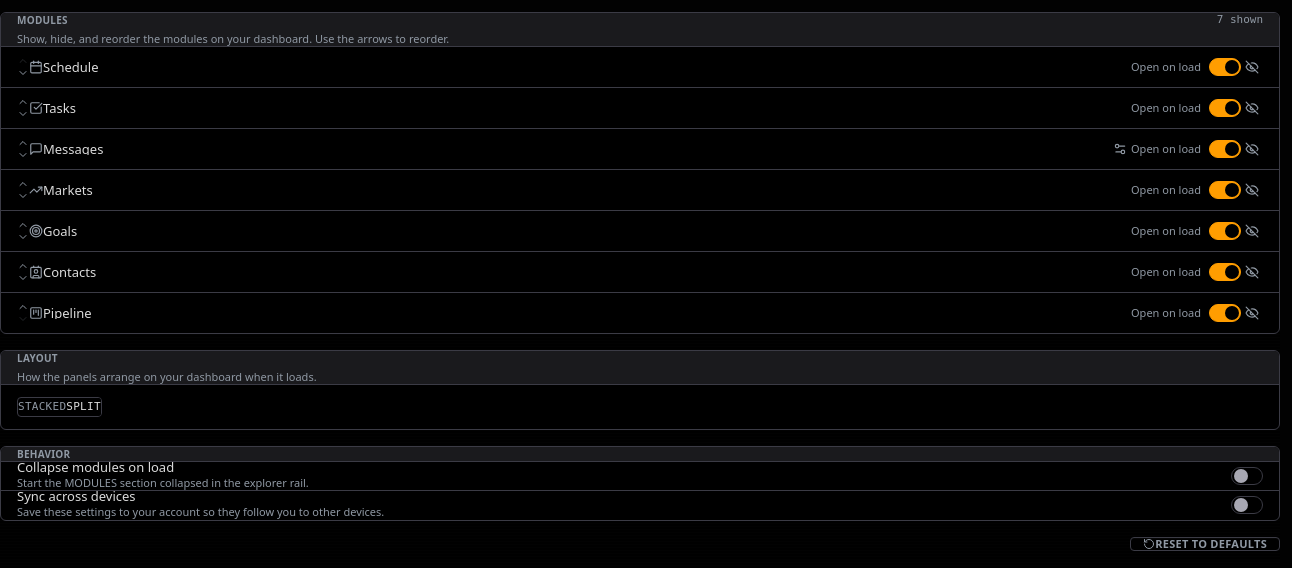
Scenario: ModuleSettingsForm › show / hide › hiding persists and moves to the Hidden tray
This screenshot has width=1292, height=568.
What coordinates should you click on to do the following:
click the button named "Hide Tasks"
I would click on:
 (1252, 108)
Its box is top-left (1241, 97), bottom-right (1263, 119).
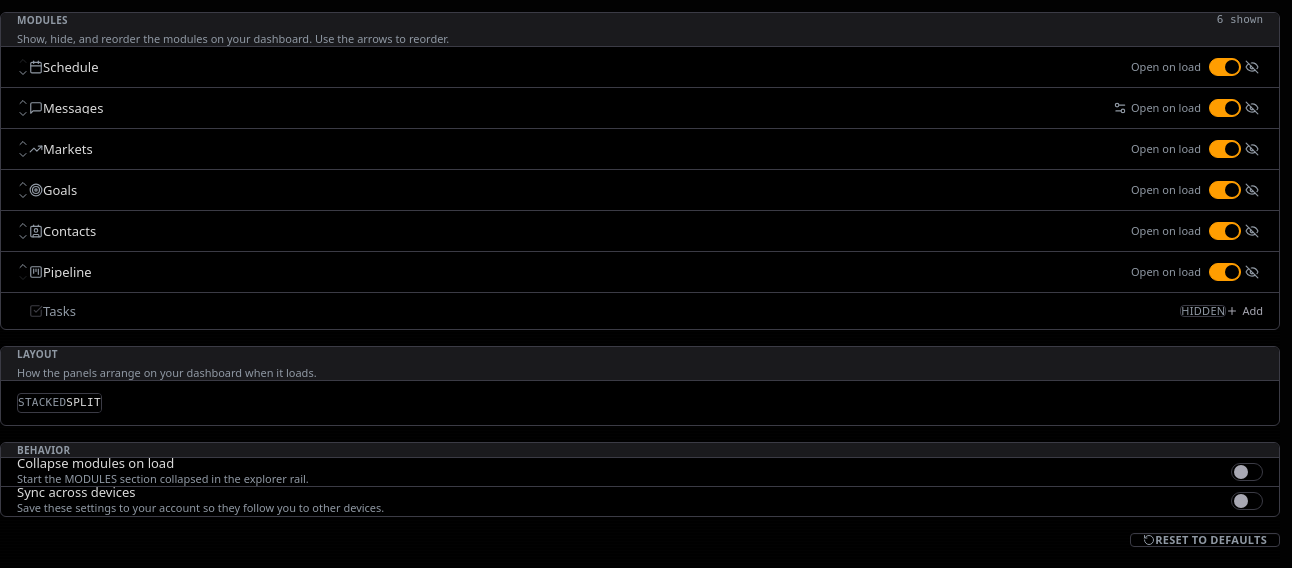
Expected: the button with aria-label "Show Tasks" is shown, top-left (1226, 301), bottom-right (1263, 321)
